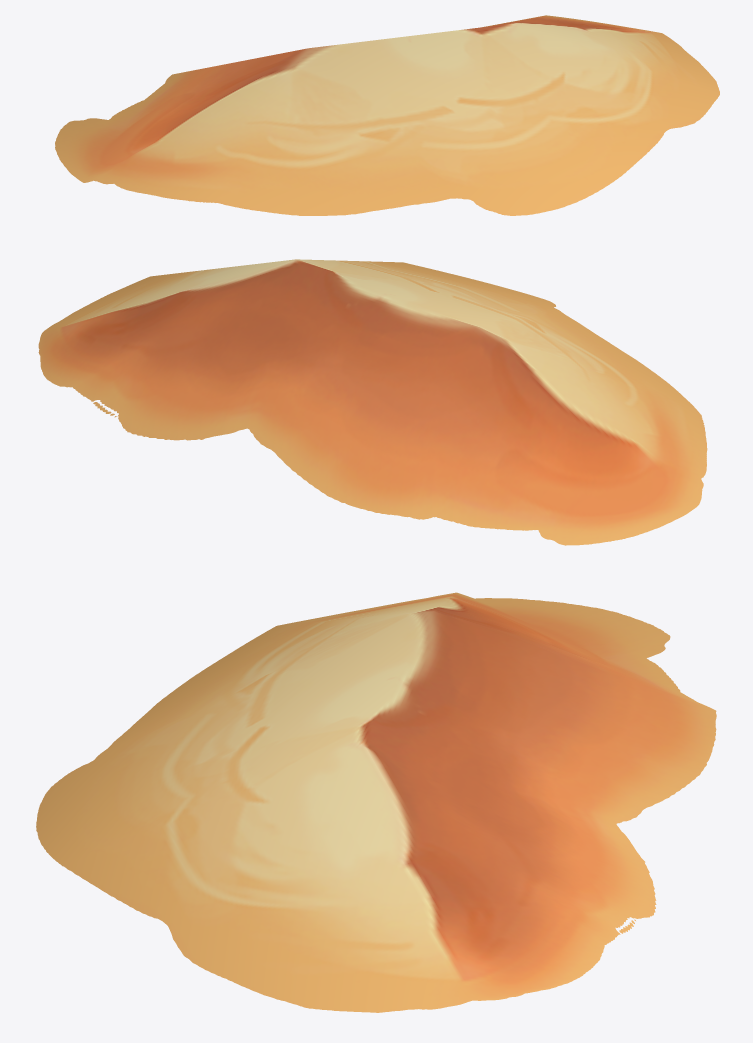
The model's file is Chapter1Scene1Model3Lod.FBX.
3 views of the same model, one above another, from view 1: azimuth 30°, elevation 25°; view 2: azimuth 150°, elevation 25°; view 3: azimuth 270°, elevation 25° (orthographic). The views are drawn at different scales.
Visible parts, largest first — view 1: Chapter1Scene1Model3Lod; view 2: Chapter1Scene1Model3Lod; view 3: Chapter1Scene1Model3Lod.
Part boxes in pixels (bbox=[...]): Chapter1Scene1Model3Lod: bbox=[55, 15, 719, 215]; Chapter1Scene1Model3Lod: bbox=[38, 259, 707, 545]; Chapter1Scene1Model3Lod: bbox=[36, 592, 716, 1012].
Size of the model in its own units: 196 by 137 by 28.84.
